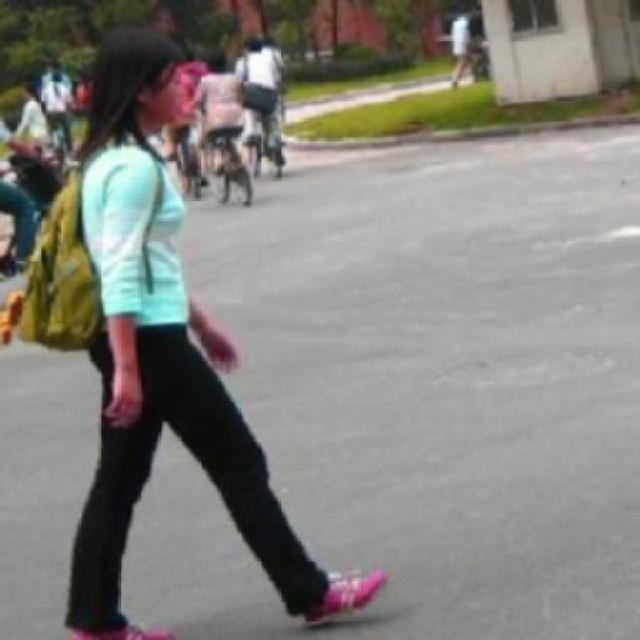obstacle: (44, 34, 393, 638), (234, 30, 294, 124), (189, 52, 246, 136)
